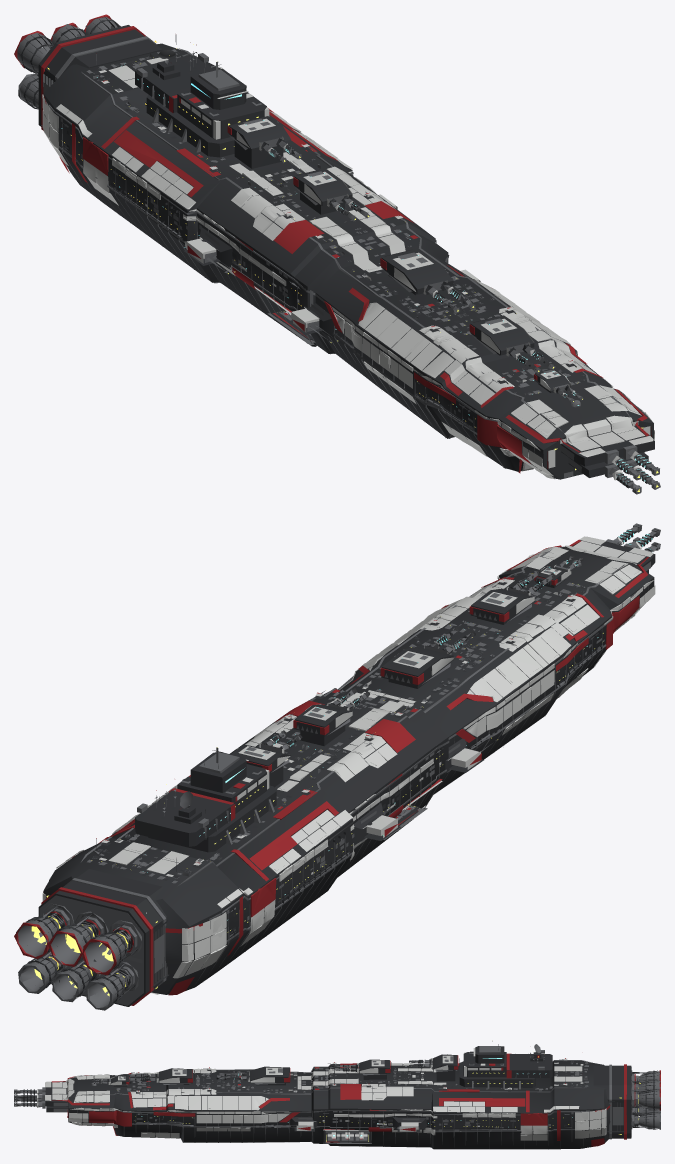
3 views of the same model, one above another, from view 1: azimuth 30°, elevation 25°; view 2: azimuth 150°, elevation 25°; view 3: azimuth 270°, elevation 25° (orthographic). The views are drawn at different scales.
Parts seen in each view (by area): view 1: KV01_Coque, KV01_Tourelle_T2, KV01_Tourelle_T4, KV01_Tourelle_T1, KV01_Tourelle_T3, KV01_Tourelle_T0, KV01_Sponson_SP1.L, KV01_Sponson_SP0.L; view 2: KV01_Coque, KV01_Tourelle_T2, KV01_Tourelle_T3, KV01_Tourelle_T1, KV01_Tourelle_T4, KV01_Sponson_SP1.L; view 3: KV01_Coque, KV01_Tourelle_T2, KV01_Tourelle_T4, KV01_Tourelle_T3, KV01_Tourelle_T1, KV01_Sponson_SP1.R, KV01_Sponson_SP0.R, KV01_Tourelle_T0, KV01_PDC.
Part boxes in pixels (<box>): KV01_Coque: <box>14,14,660,494</box>; KV01_Tourelle_T2: <box>380,248,475,313</box>; KV01_Tourelle_T4: <box>227,116,301,168</box>; KV01_Tourelle_T1: <box>469,315,555,373</box>; KV01_Tourelle_T3: <box>293,169,369,221</box>; KV01_Tourelle_T0: <box>534,369,583,402</box>; KV01_Sponson_SP1.L: <box>183,232,235,273</box>; KV01_Sponson_SP0.L: <box>288,304,337,342</box>; KV01_Coque: <box>14,523,660,1010</box>; KV01_Tourelle_T2: <box>380,626,475,688</box>; KV01_Tourelle_T3: <box>293,688,370,746</box>; KV01_Tourelle_T1: <box>469,569,555,624</box>; KV01_Tourelle_T4: <box>231,730,302,787</box>; KV01_Sponson_SP1.L: <box>361,804,415,841</box>; KV01_Coque: <box>14,1040,660,1149</box>; KV01_Tourelle_T2: <box>216,1066,290,1085</box>; KV01_Tourelle_T4: <box>409,1054,459,1081</box>; KV01_Tourelle_T3: <box>332,1059,391,1079</box>; KV01_Tourelle_T1: <box>127,1068,194,1084</box>; KV01_Sponson_SP1.R: <box>376,1118,419,1132</box>; KV01_Sponson_SP0.R: <box>273,1118,314,1131</box>; KV01_Tourelle_T0: <box>92,1076,131,1086</box>; KV01_PDC: <box>131,1058,567,1093</box>.
Size of the model in its own units: 259 by 214 by 1318.
